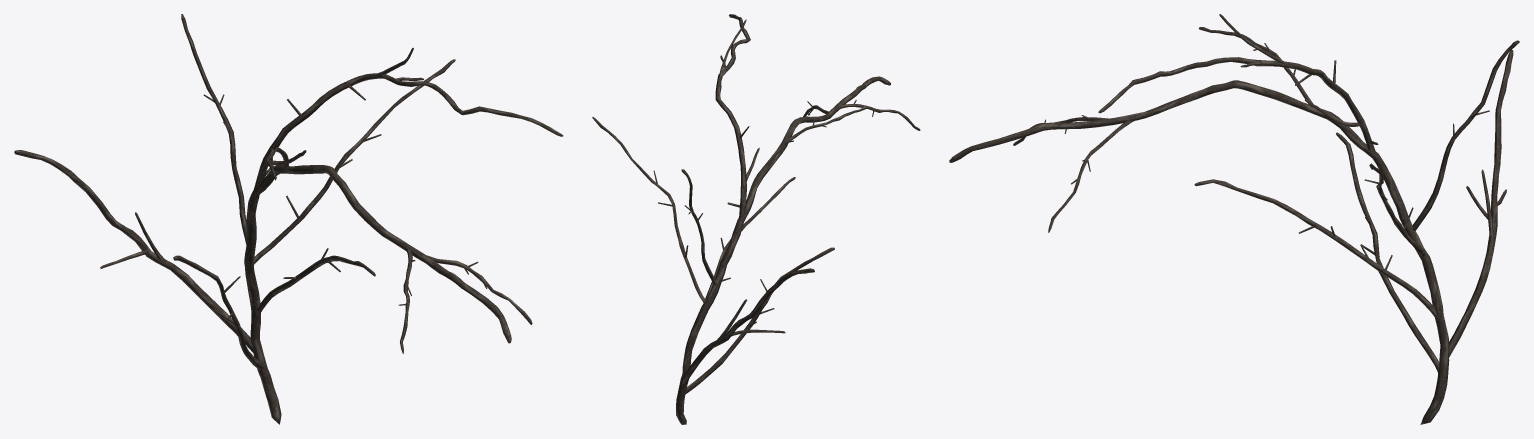
The model's file is Branch_deadwood5_LOD1.fbx.
3 views of the same model, side by side, from view 1: azimuth 30°, elevation 25°; view 2: azimuth 150°, elevation 25°; view 3: azimuth 270°, elevation 25° (orthographic). The views are drawn at different scales.
Parts seen in each view (by area): view 1: polySurface18; view 2: polySurface18; view 3: polySurface18.
Boxes of the visible parts, x1,y1,x2,y2 form: polySurface18: [14, 14, 563, 424]; polySurface18: [592, 14, 920, 424]; polySurface18: [949, 14, 1519, 424].
Size of the model in its own units: 173 by 202 by 246.
